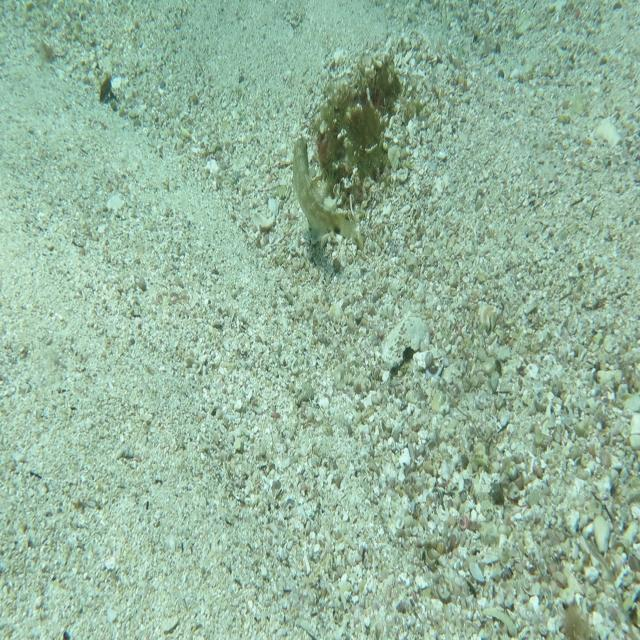AM: (289, 130, 359, 249)
core_nest: (369, 69, 400, 107)
nest: (313, 44, 412, 188)
vegetation: (563, 598, 593, 640), (96, 70, 114, 107)
